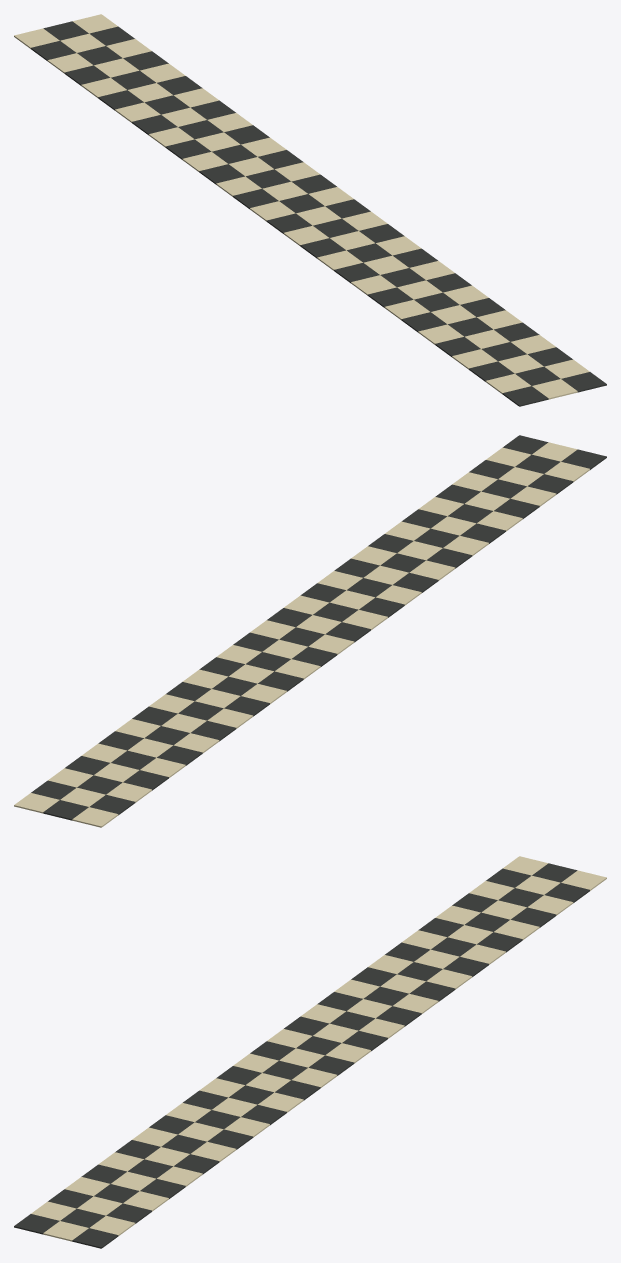
The model's file is track_finish_decal.glb.
3 views of the same model, one above another, from view 1: azimuth 30°, elevation 25°; view 2: azimuth 150°, elevation 25°; view 3: azimuth 330°, elevation 25° (orthographic).
Parts seen in each view (by area): view 1: Finish checker, Finish checker.060, Finish checker.030, Finish checker.018, Finish checker.001, Finish checker.002, Finish checker.007, Finish checker.008, Finish checker.012, Finish checker.014, Finish checker.024, Finish checker.025 (+20 smaller); view 2: Finish checker.029, Finish checker.089, Finish checker.059, Finish checker.011, Finish checker, Finish checker.004, Finish checker.005, Finish checker.015, Finish checker.017, Finish checker.021, Finish checker.022, Finish checker.027 (+20 smaller); view 3: Finish checker.060, Finish checker, Finish checker.030, Finish checker.078, Finish checker.061, Finish checker.062, Finish checker.067, Finish checker.068, Finish checker.072, Finish checker.074, Finish checker.084, Finish checker.085 (+20 smaller).
Part boxes in pixels (x1,y1,x2,y2): Finish checker: (502, 386, 548, 406); Finish checker.060: (561, 372, 606, 392); Finish checker.030: (532, 379, 577, 399); Finish checker.018: (199, 164, 244, 184); Finish checker.001: (485, 373, 530, 394); Finish checker.002: (469, 361, 514, 381); Finish checker.007: (384, 299, 429, 320); Finish checker.008: (367, 287, 413, 307); Finish checker.012: (300, 238, 345, 258); Finish checker.014: (266, 213, 312, 233); Finish checker.024: (98, 90, 143, 110); Finish checker.025: (81, 77, 126, 97); Finish checker.029: (72, 807, 118, 827); Finish checker.089: (14, 793, 59, 813); Finish checker.059: (43, 800, 88, 820); Finish checker.011: (376, 585, 421, 605); Finish checker: (561, 449, 606, 469); Finish checker.004: (494, 498, 539, 518); Finish checker.005: (477, 511, 522, 531); Finish checker.015: (308, 634, 354, 654); Finish checker.017: (275, 659, 320, 679); Finish checker.021: (207, 708, 253, 728); Finish checker.022: (191, 720, 236, 741); Finish checker.027: (106, 782, 151, 802); Finish checker.060: (72, 1228, 118, 1248); Finish checker: (14, 1214, 59, 1234); Finish checker.030: (43, 1221, 88, 1241); Finish checker.078: (376, 1006, 421, 1026); Finish checker.061: (90, 1215, 135, 1236); Finish checker.062: (106, 1203, 151, 1223); Finish checker.067: (191, 1141, 236, 1162); Finish checker.068: (207, 1129, 253, 1149); Finish checker.072: (275, 1080, 320, 1100); Finish checker.074: (308, 1055, 354, 1075); Finish checker.084: (477, 932, 522, 952); Finish checker.085: (494, 919, 539, 939).
Size of the model in its own units: 96 by 1.4 by 960.
